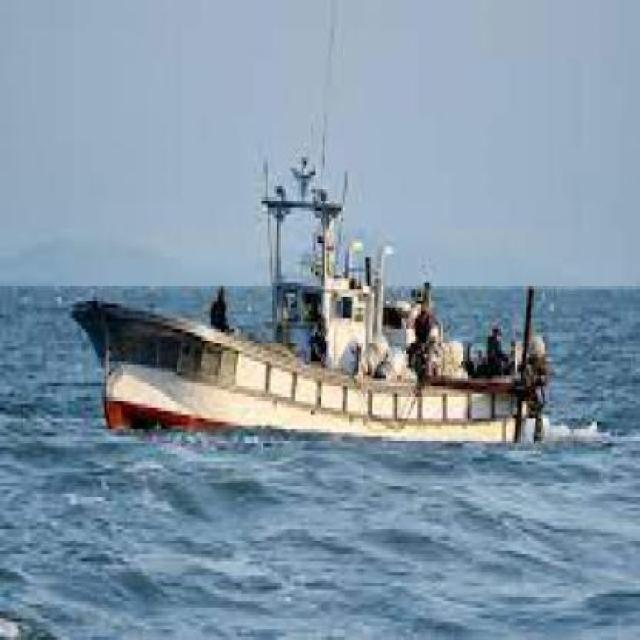fish-b: (40, 137, 580, 474)
